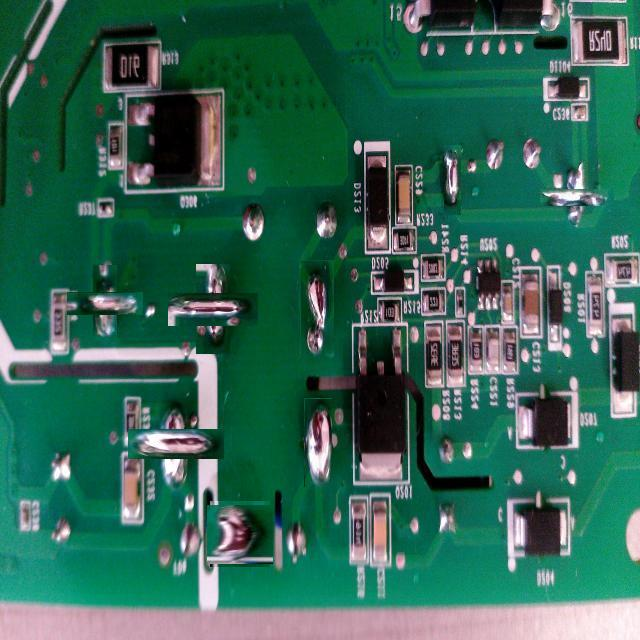Short_circuit: (209, 502, 272, 566), (144, 413, 207, 476), (182, 278, 245, 340), (300, 260, 334, 358), (80, 278, 130, 328), (304, 398, 332, 487), (554, 174, 600, 220), (444, 145, 461, 215)
